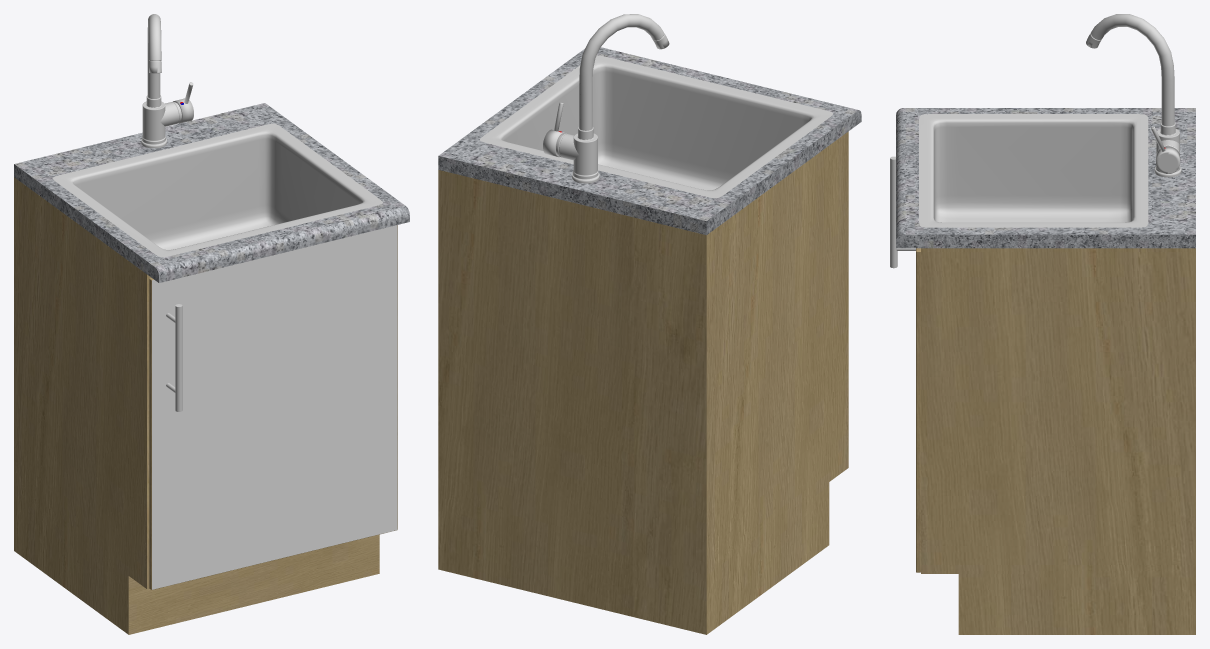
Rendered from sinkCabinet2.glb.
The picture shows the model from 3 angles, left to right: view 1: azimuth 30°, elevation 25°; view 2: azimuth 150°, elevation 25°; view 3: azimuth 270°, elevation 25°; orthographic projection. The views are drawn at different scales.
Visible parts, largest first — view 1: GC_100L.003_Cube.002, Cube.002_Cube.003, Cylinder.001, sweethome3d_opening_on_hinge_1_Cylinder; view 2: GC_100L.003_Cube.002, Cube.002_Cube.003, sweethome3d_opening_on_hinge_1_Cylinder, Cylinder.001; view 3: GC_100L.003_Cube.002, Cube.002_Cube.003, sweethome3d_opening_on_hinge_1_Cylinder, sweethome3d_opening_on_hinge_2_Cylinder, Cylinder.001.
Boxes of the visible parts, x1,y1,x2,y2 form: GC_100L.003_Cube.002: (14,103,409,634); Cube.002_Cube.003: (52,123,382,257); Cylinder.001: (141,95,181,148); sweethome3d_opening_on_hinge_1_Cylinder: (147,14,161,98); GC_100L.003_Cube.002: (438,47,861,634); Cube.002_Cube.003: (480,55,832,198); sweethome3d_opening_on_hinge_1_Cylinder: (579,14,669,130); Cylinder.001: (556,127,599,183); GC_100L.003_Cube.002: (890,108,1195,634); Cube.002_Cube.003: (919,114,1148,227); sweethome3d_opening_on_hinge_1_Cylinder: (1086,14,1174,126); sweethome3d_opening_on_hinge_2_Cylinder: (1151,126,1180,173); Cylinder.001: (1154,122,1181,177).
Size of the model in its own units: 0.6 by 1.21 by 0.6124.
11 materials, 5 textured.
